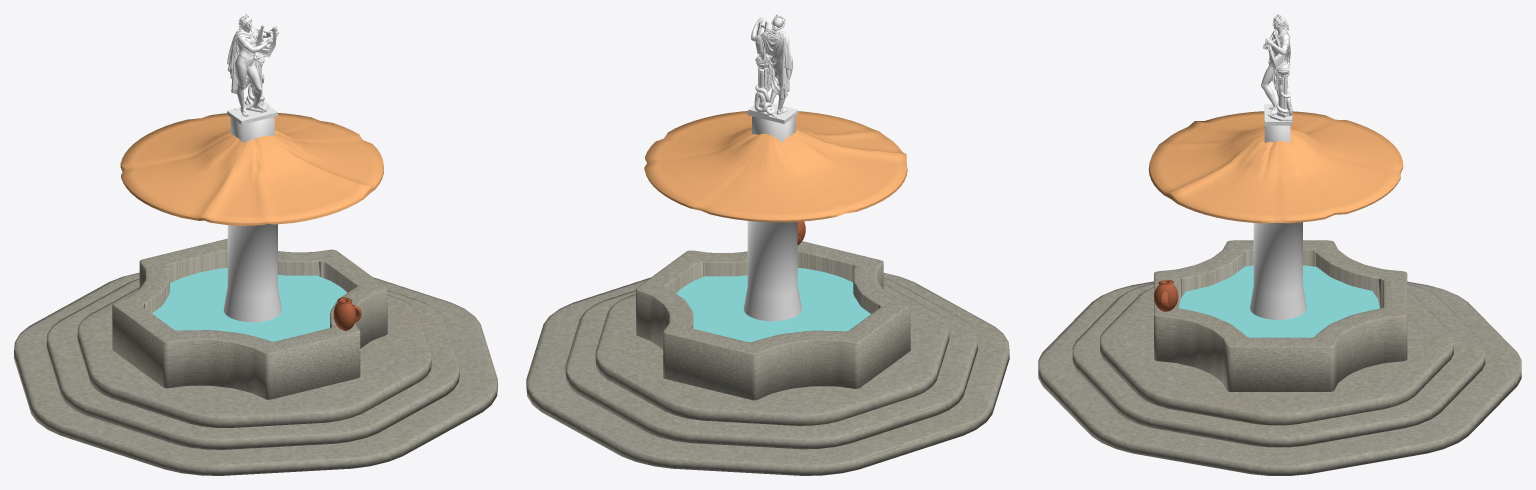
The model's file is chafarizapolo.glb.
3 views of the same model, side by side, from view 1: azimuth 30°, elevation 25°; view 2: azimuth 150°, elevation 25°; view 3: azimuth 270°, elevation 25° (orthographic). The views are drawn at different scales.
Parts seen in each view (by area): view 1: Degraus.001, Toldo.001, Tanque.001, Fundo tanque.001, Pilar Central.001, EstatuaApolo - v3, Socó.001, Bilha.001; view 2: Degraus.001, Tanque.001, Toldo.001, Fundo tanque.001, Pilar Central.001, EstatuaApolo - v3, Socó.001; view 3: Degraus.001, Toldo.001, Tanque.001, Fundo tanque.001, Pilar Central.001, EstatuaApolo - v3, Bilha.001.
Part boxes in pixels (<box>): Degraus.001: <box>14,272,497,475</box>; Toldo.001: <box>120,113,383,225</box>; Tanque.001: <box>112,238,387,399</box>; Fundo tanque.001: <box>152,268,347,341</box>; Pilar Central.001: <box>223,223,281,322</box>; EstatuaApolo - v3: <box>227,14,279,124</box>; Socó.001: <box>230,117,274,142</box>; Bilha.001: <box>333,297,361,330</box>; Degraus.001: <box>526,273,1009,475</box>; Tanque.001: <box>636,241,910,400</box>; Toldo.001: <box>644,111,907,222</box>; Fundo tanque.001: <box>676,267,870,342</box>; Pilar Central.001: <box>743,221,801,321</box>; EstatuaApolo - v3: <box>747,14,798,123</box>; Socó.001: <box>752,116,795,142</box>; Degraus.001: <box>1038,281,1521,475</box>; Toldo.001: <box>1148,111,1403,223</box>; Tanque.001: <box>1154,240,1407,391</box>; Fundo tanque.001: <box>1179,265,1379,337</box>; Pilar Central.001: <box>1250,222,1306,319</box>; EstatuaApolo - v3: <box>1261,14,1292,125</box>; Bilha.001: <box>1154,280,1178,311</box>.
Bounding box in the file's own units: 6.35 × 5.15 × 6.35.
7 materials, 2 textured.
